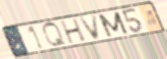1: (28, 25, 45, 51)
5: (120, 7, 144, 35)
H: (60, 17, 88, 46)
M: (97, 11, 131, 39)
Q: (41, 22, 69, 49)
V: (78, 13, 101, 42)
